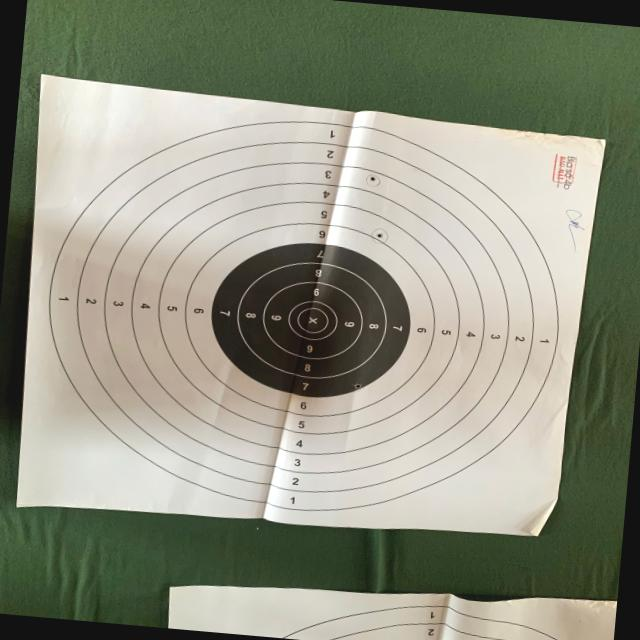bullet: (354, 383, 362, 387), (376, 233, 383, 237), (370, 176, 374, 180)
target: (15, 75, 604, 535)
